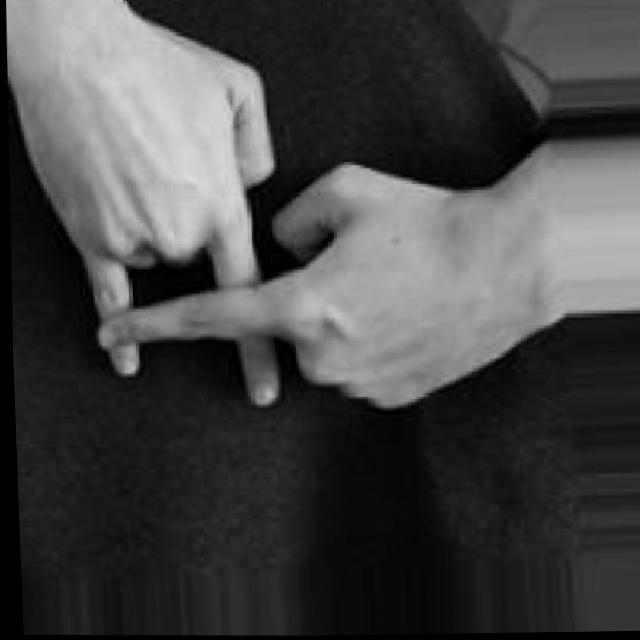H: (0, 0, 567, 418)
